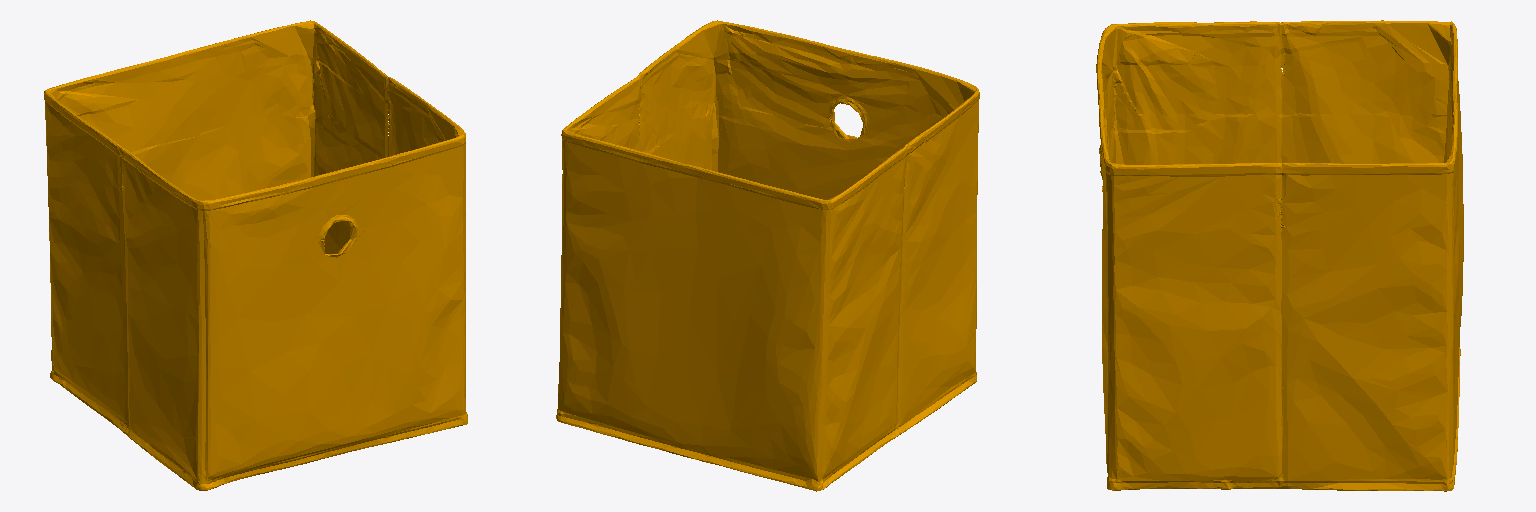
The robot description file, URDF, robot "Vtech_Stack_Sing_Rings_636_Months":
<?xml version="1.0" ?>
<robot name="Vtech_Stack_Sing_Rings_636_Months">

  <link name="base">

    <inertial>
      <mass value="1"/>
      <inertia ixx="1" ixy="0" ixz="0" iyy="1" iyz="0" izz="1"/>
    </inertial>

    <visual>
      <geometry>
        <mesh filename ="model.obj"/>
      </geometry>
    </visual>

    <collision>
      <geometry>
        <mesh filename ="model.obj"/>
      </geometry>
    </collision>

  </link>
  
</robot>

--- Facts derived from the render (not from the file) ---
3 views of the same robot in one strip: view 1: azimuth 30°, elevation 25°; view 2: azimuth 150°, elevation 25°; view 3: azimuth 270°, elevation 25° (orthographic).
Robot: Vtech_Stack_Sing_Rings_636_Months — 1 links, 0 joints (none); root link base; default pose: every joint at zero.
Links seen in each view (by area): view 1: base; view 2: base; view 3: base.
Link boxes in pixels (left/top/right/bottom): base: left=44, top=20, right=467, bottom=490; base: left=556, top=20, right=979, bottom=491; base: left=1096, top=20, right=1463, bottom=491.
Bounding box of the posed robot: 0.2803 × 0.2857 × 0.2848 m (x, y, z).
1 mesh visuals loaded from 1 distinct referenced files (1 OBJ).